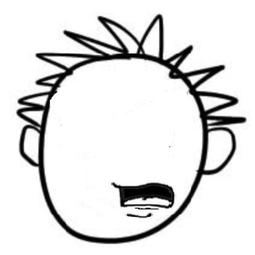ear: (197, 127, 243, 178), (19, 121, 51, 167)
open_mouth: (101, 175, 184, 222)
